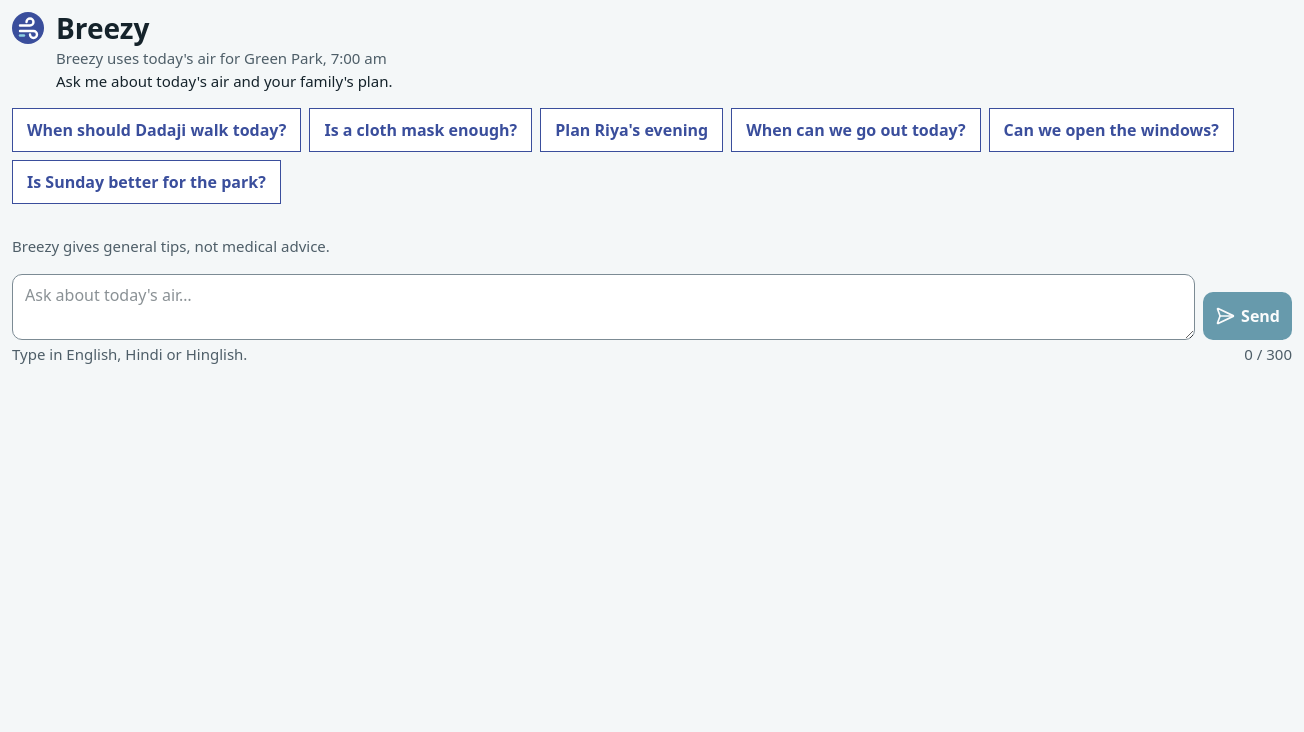
Test case: refusals and the status node › shows no settings link to a member who is not the admin
Type "Remove Rahul" into the text box named "Your question for Breezy" at (604, 307), box [12,274,1195,340]
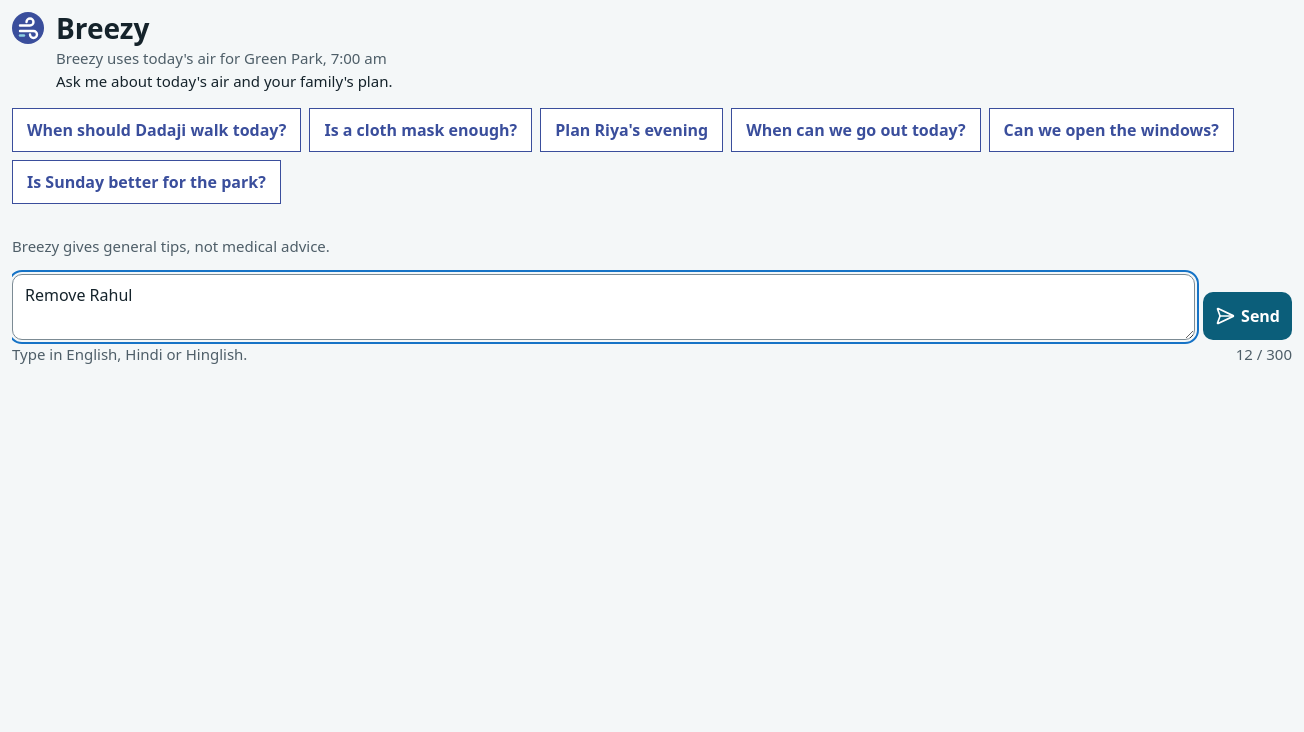
Click the button "Send" at (1248, 316), box [1203,292,1292,340]
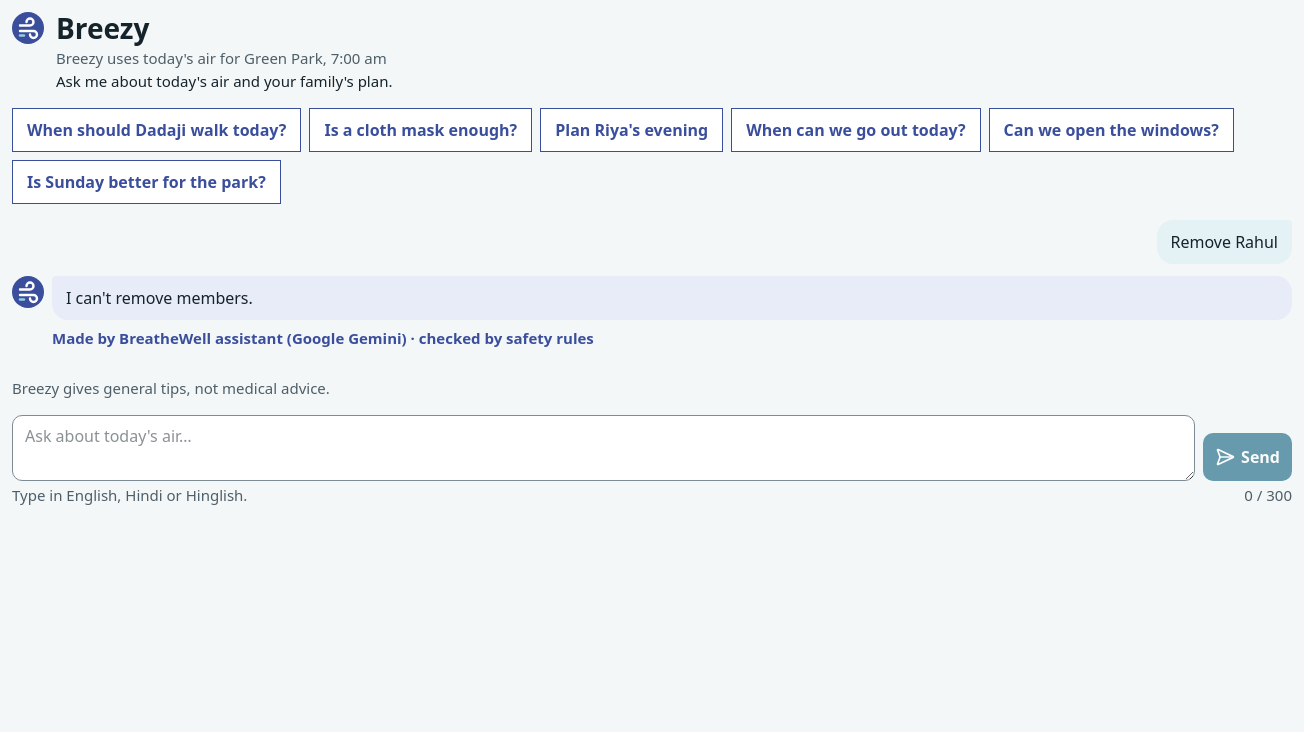
Expected: the text "I can't remove members." is shown, [66,287,253,309]
